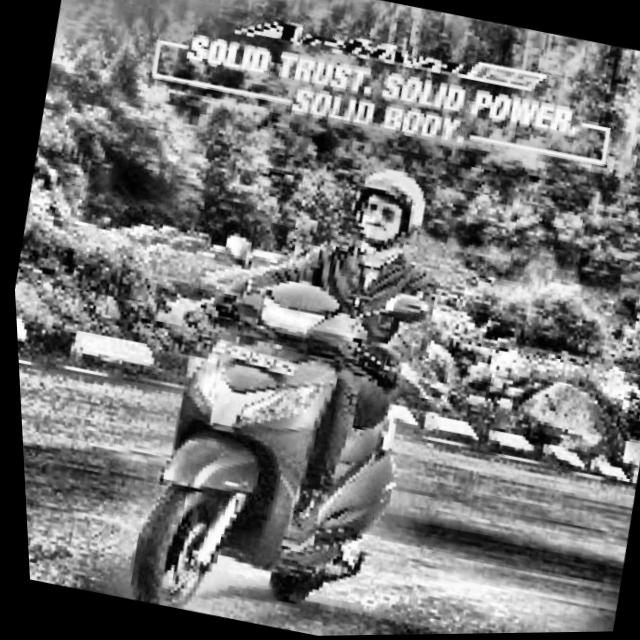motorcycle: (103, 212, 445, 639)
